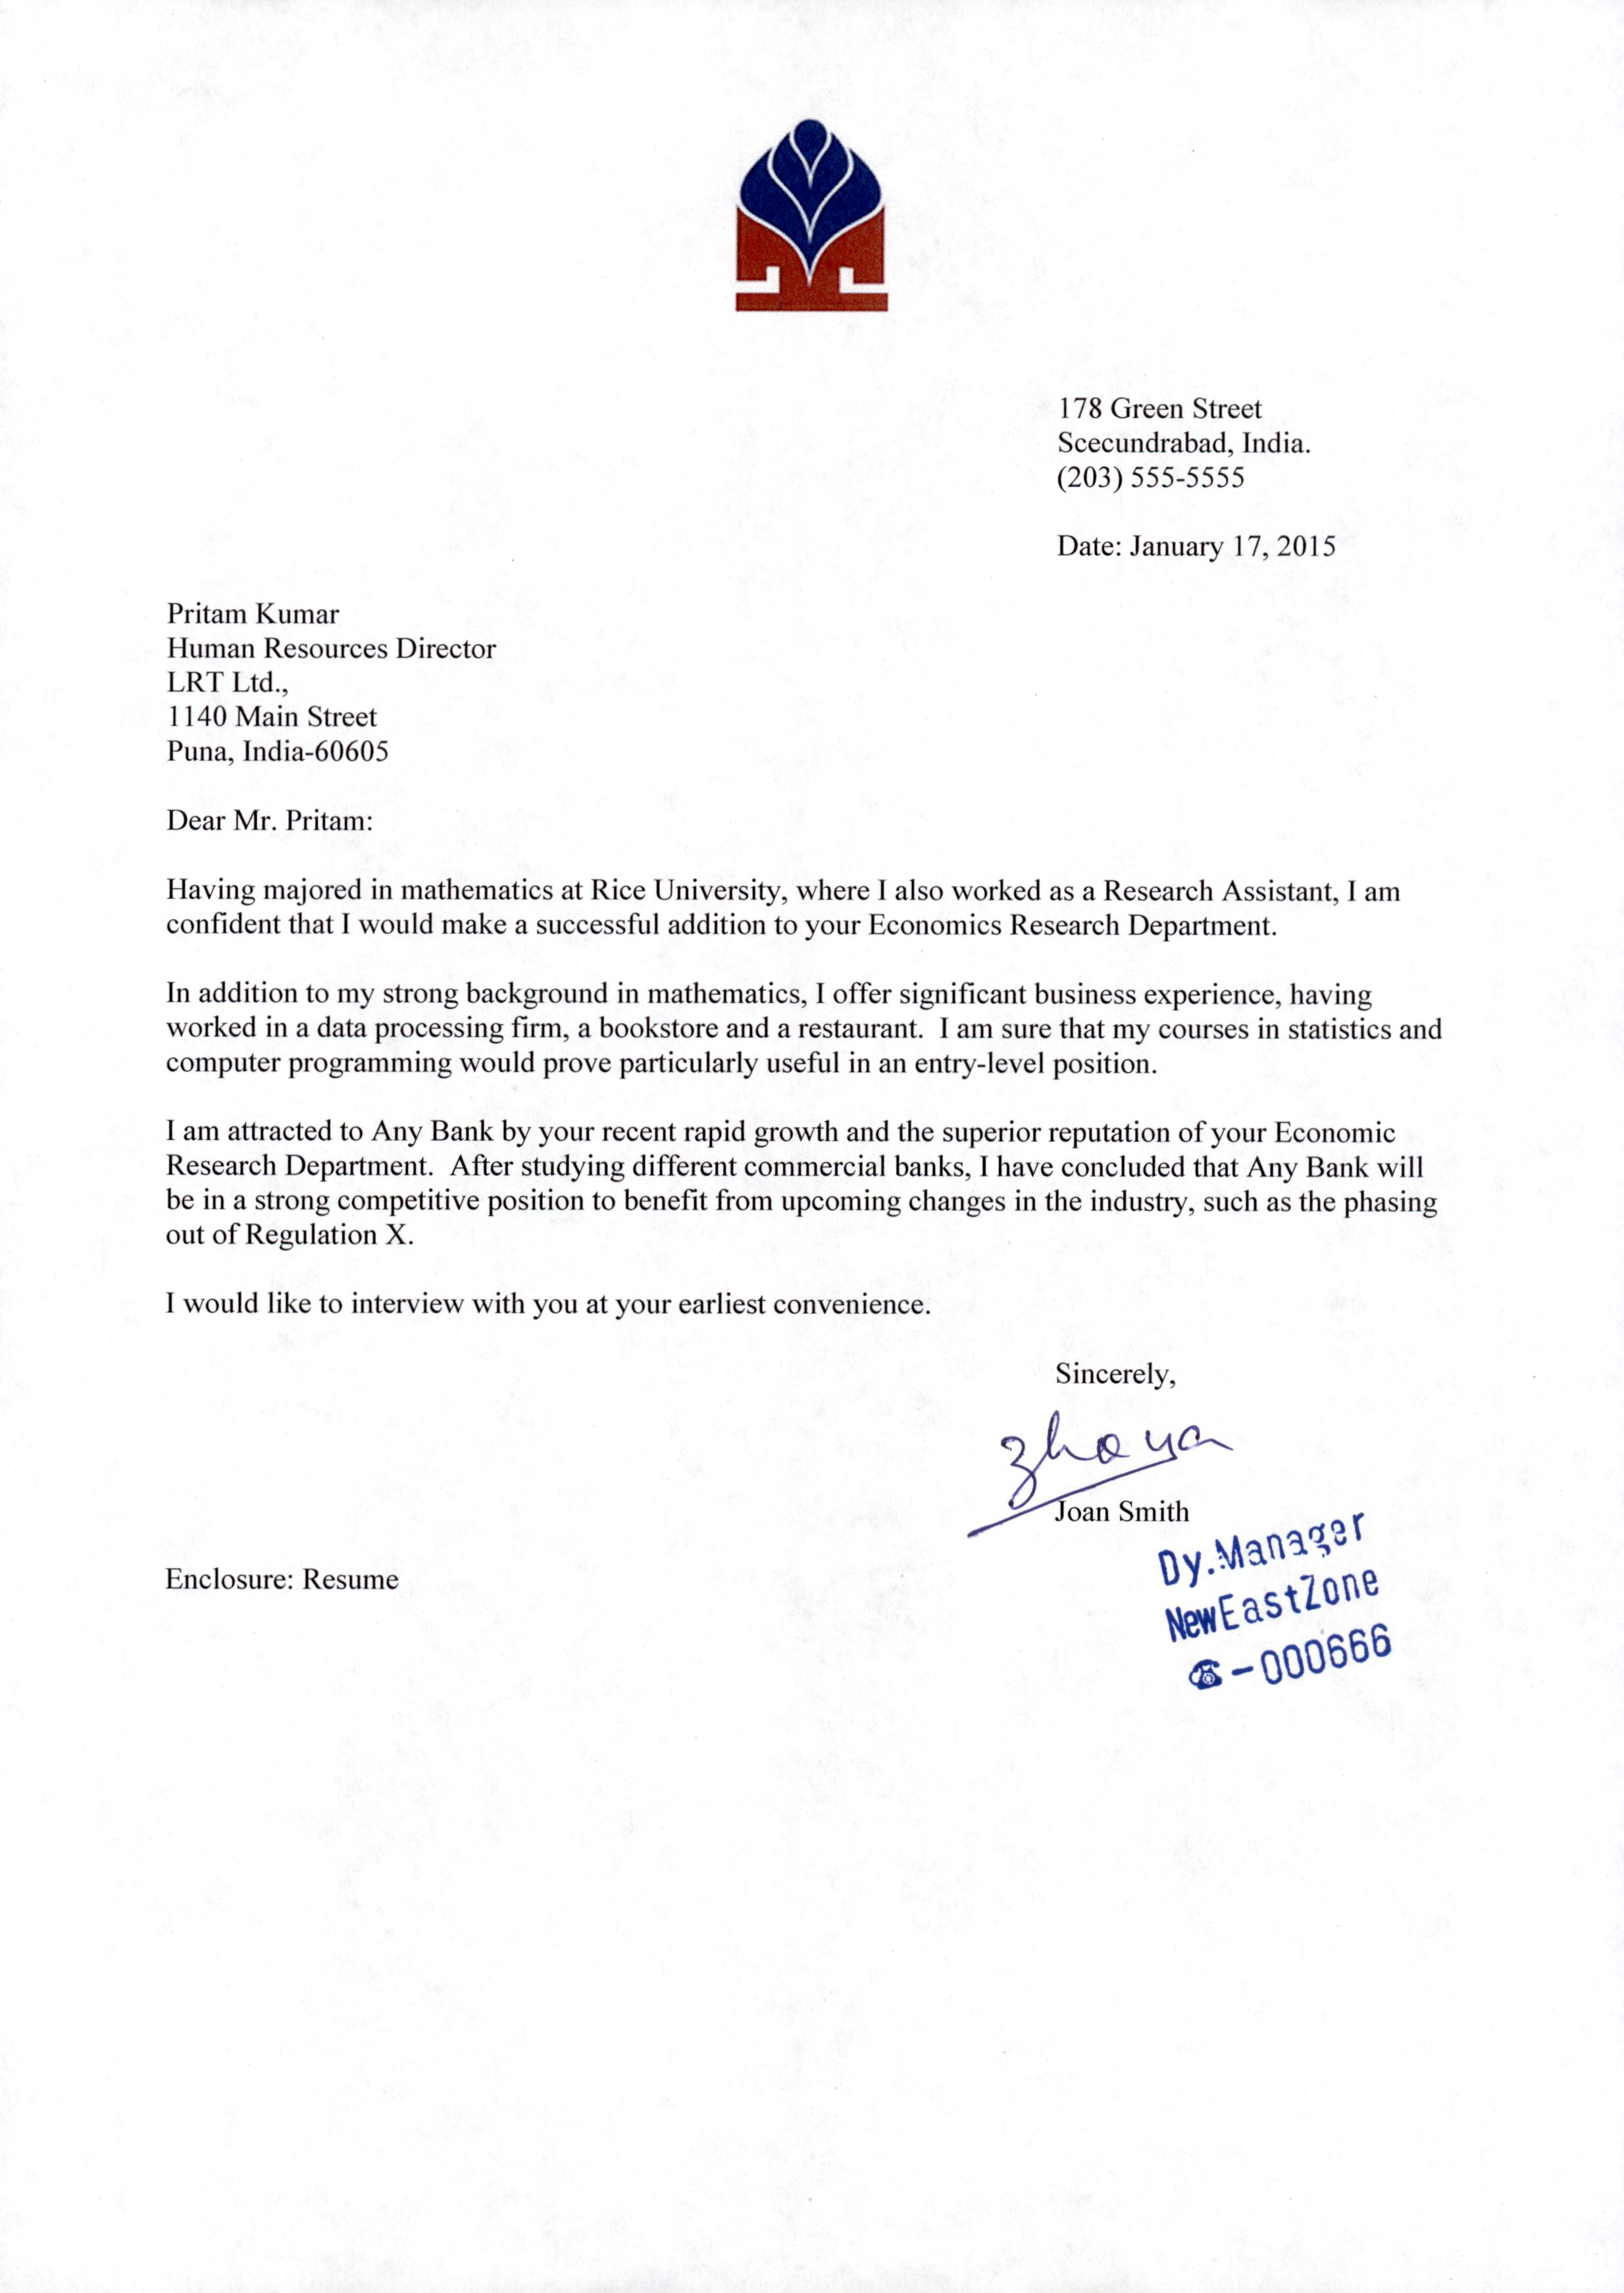Signature: (982, 1404, 1237, 1506)
